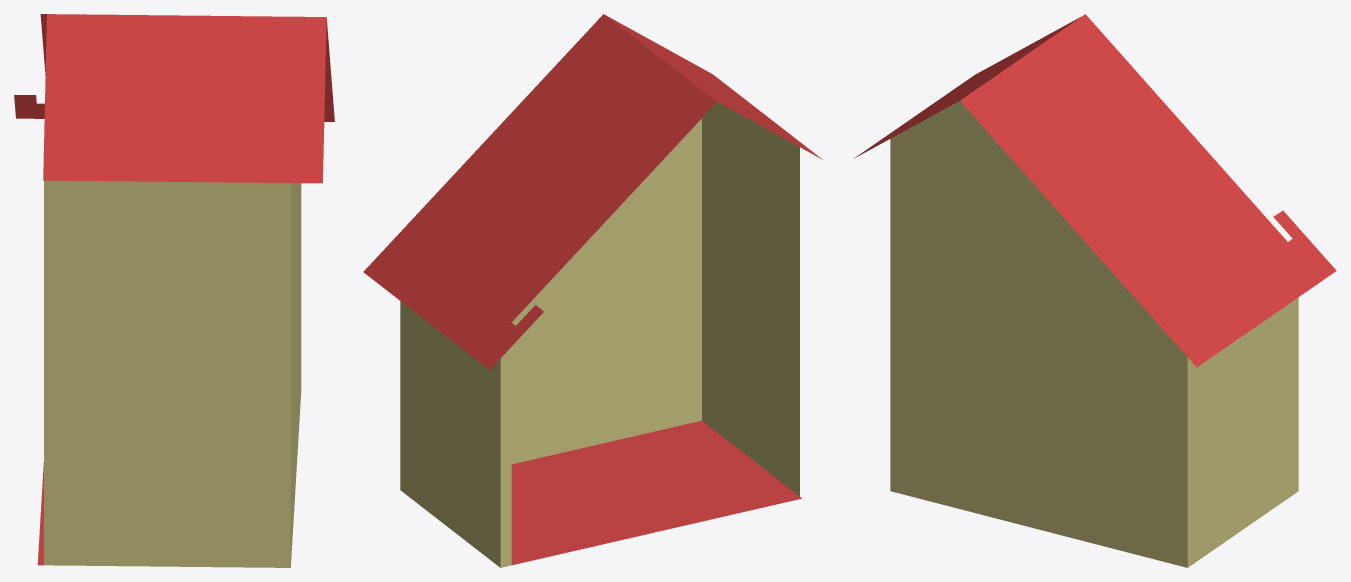
3 renders of one model, left to right at view 1: azimuth 30°, elevation 25°; view 2: azimuth 150°, elevation 25°; view 3: azimuth 270°, elevation 25°, orthographic. The views are drawn at different scales.
Bounding box in the file's own units: 11.15 × 13.13 × 12.62.
